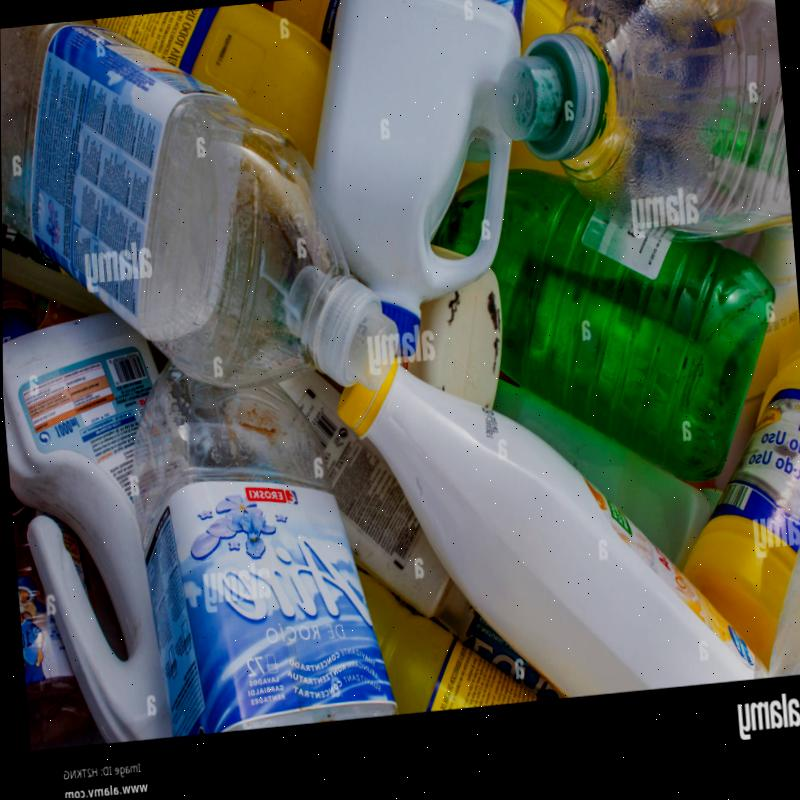botella: (0, 19, 405, 404), (425, 169, 779, 497), (116, 367, 394, 741), (491, 0, 788, 266)
